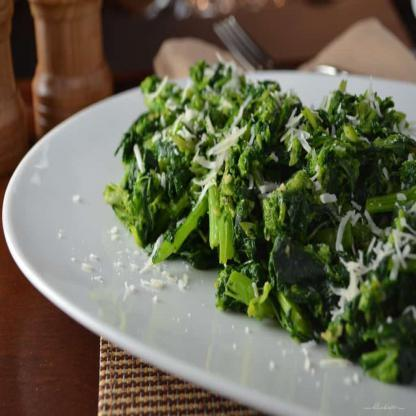broccoli: (102, 57, 416, 390)
